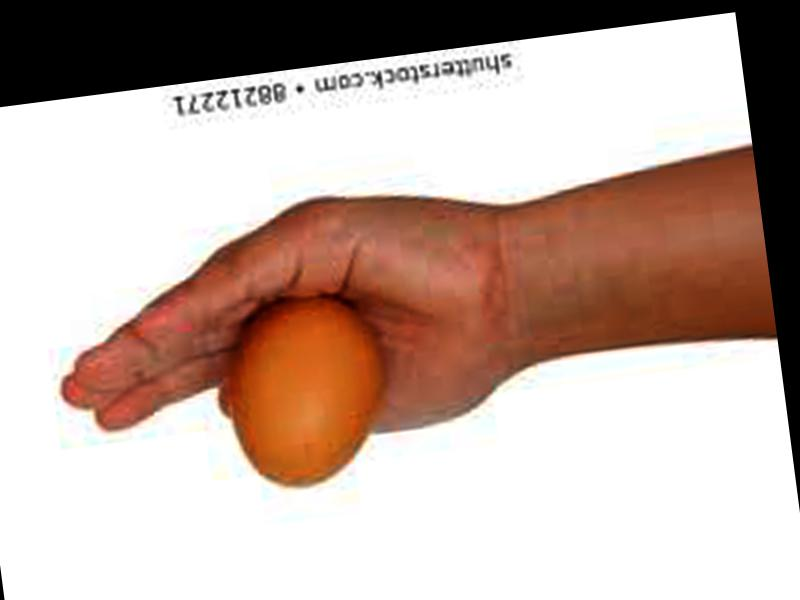Eggs: (218, 284, 395, 495)
